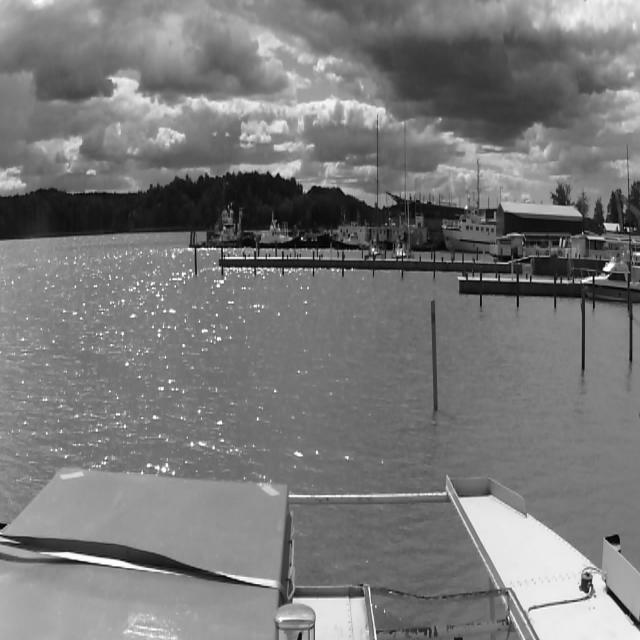ship: (582, 254, 640, 303), (443, 197, 493, 251), (397, 113, 409, 260), (371, 117, 383, 258), (256, 222, 294, 249)
